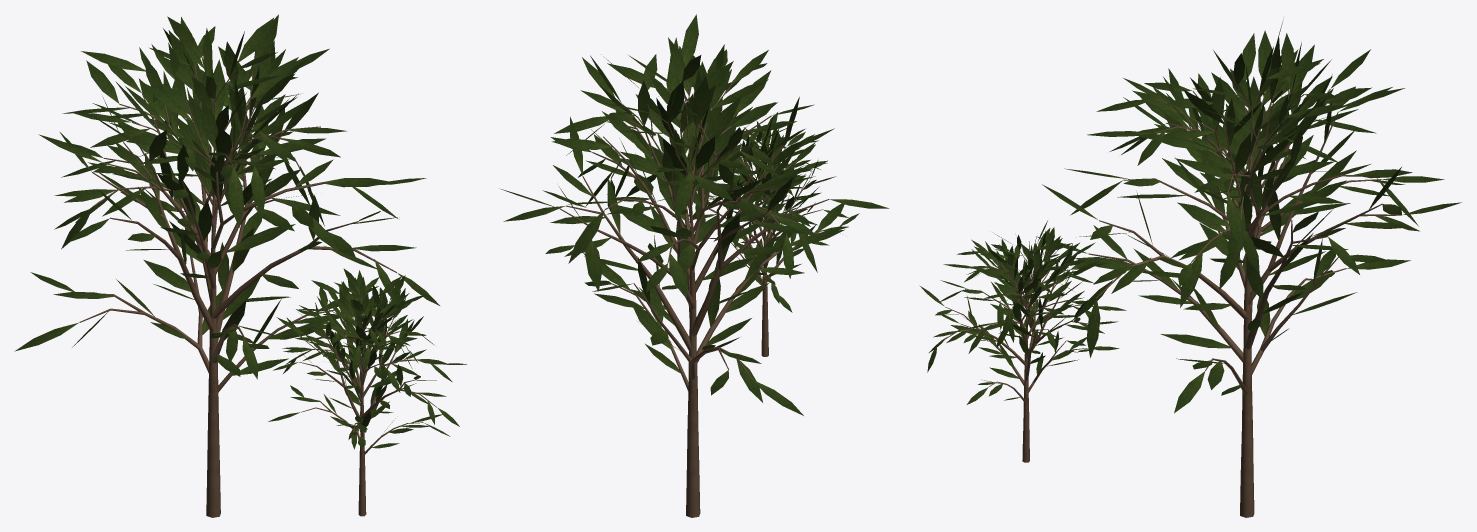
The model's file is flowers.gltf.
3 renders of one model, left to right at view 1: azimuth 30°, elevation 25°; view 2: azimuth 150°, elevation 25°; view 3: azimuth 270°, elevation 25°, orthographic. The views are drawn at different scales.
Visible parts, largest first — view 1: leaves.002; view 2: leaves.002; view 3: leaves.002.
Part boxes in pixels (left/top/right/bottom): leaves.002: left=14, top=14, right=466, bottom=517; leaves.002: left=501, top=14, right=889, bottom=517; leaves.002: left=919, top=20, right=1461, bottom=517.
Size of the model in its own units: 0.3406 by 0.4513 by 0.456.
1 material, 1 textured.
